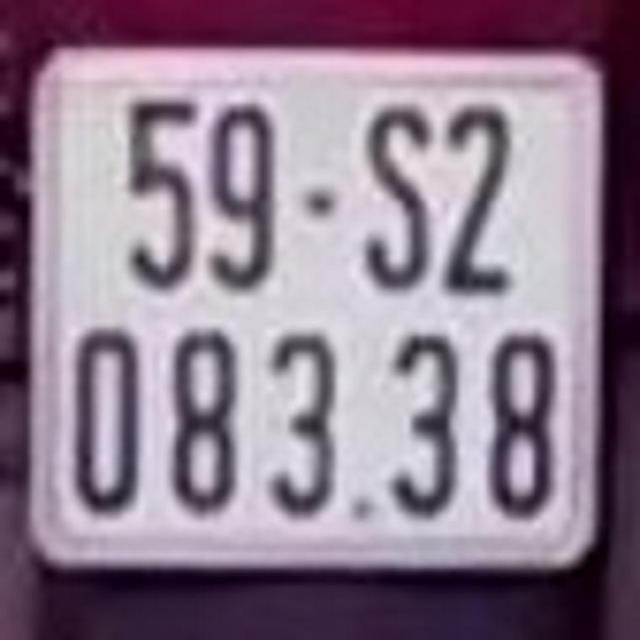0: (68, 316, 148, 516)
2: (444, 91, 519, 303)
3: (392, 315, 459, 520), (269, 321, 335, 514)
5: (124, 91, 199, 288)
8: (169, 321, 241, 513), (490, 316, 553, 518)
9: (204, 90, 274, 300)
S: (360, 96, 430, 290)
